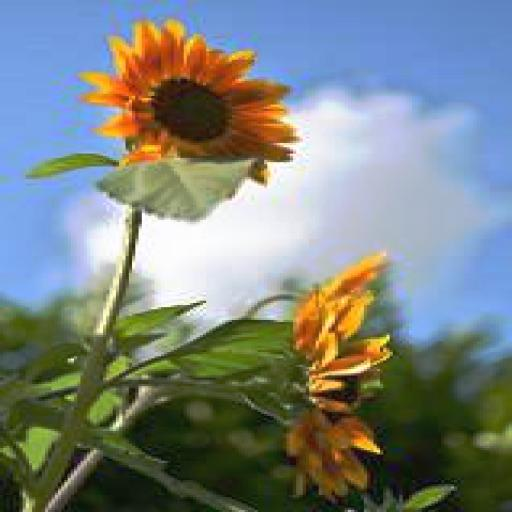sunflower: (90, 19, 303, 179), (290, 246, 399, 504)
